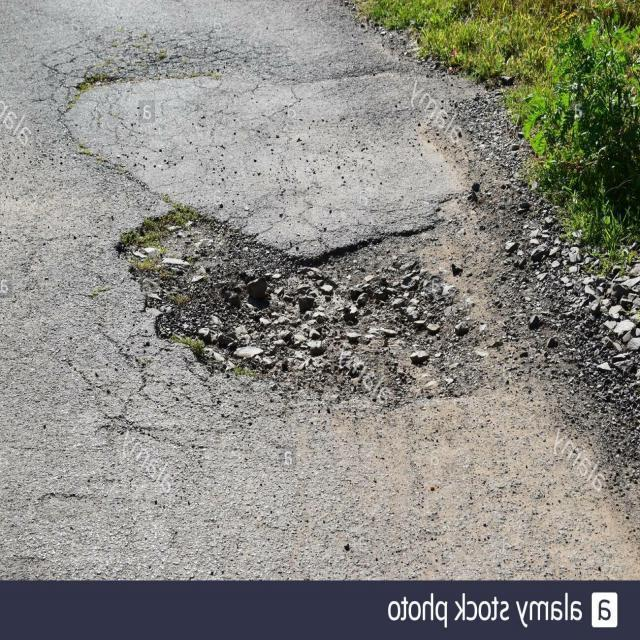pothole: (90, 167, 522, 428)
